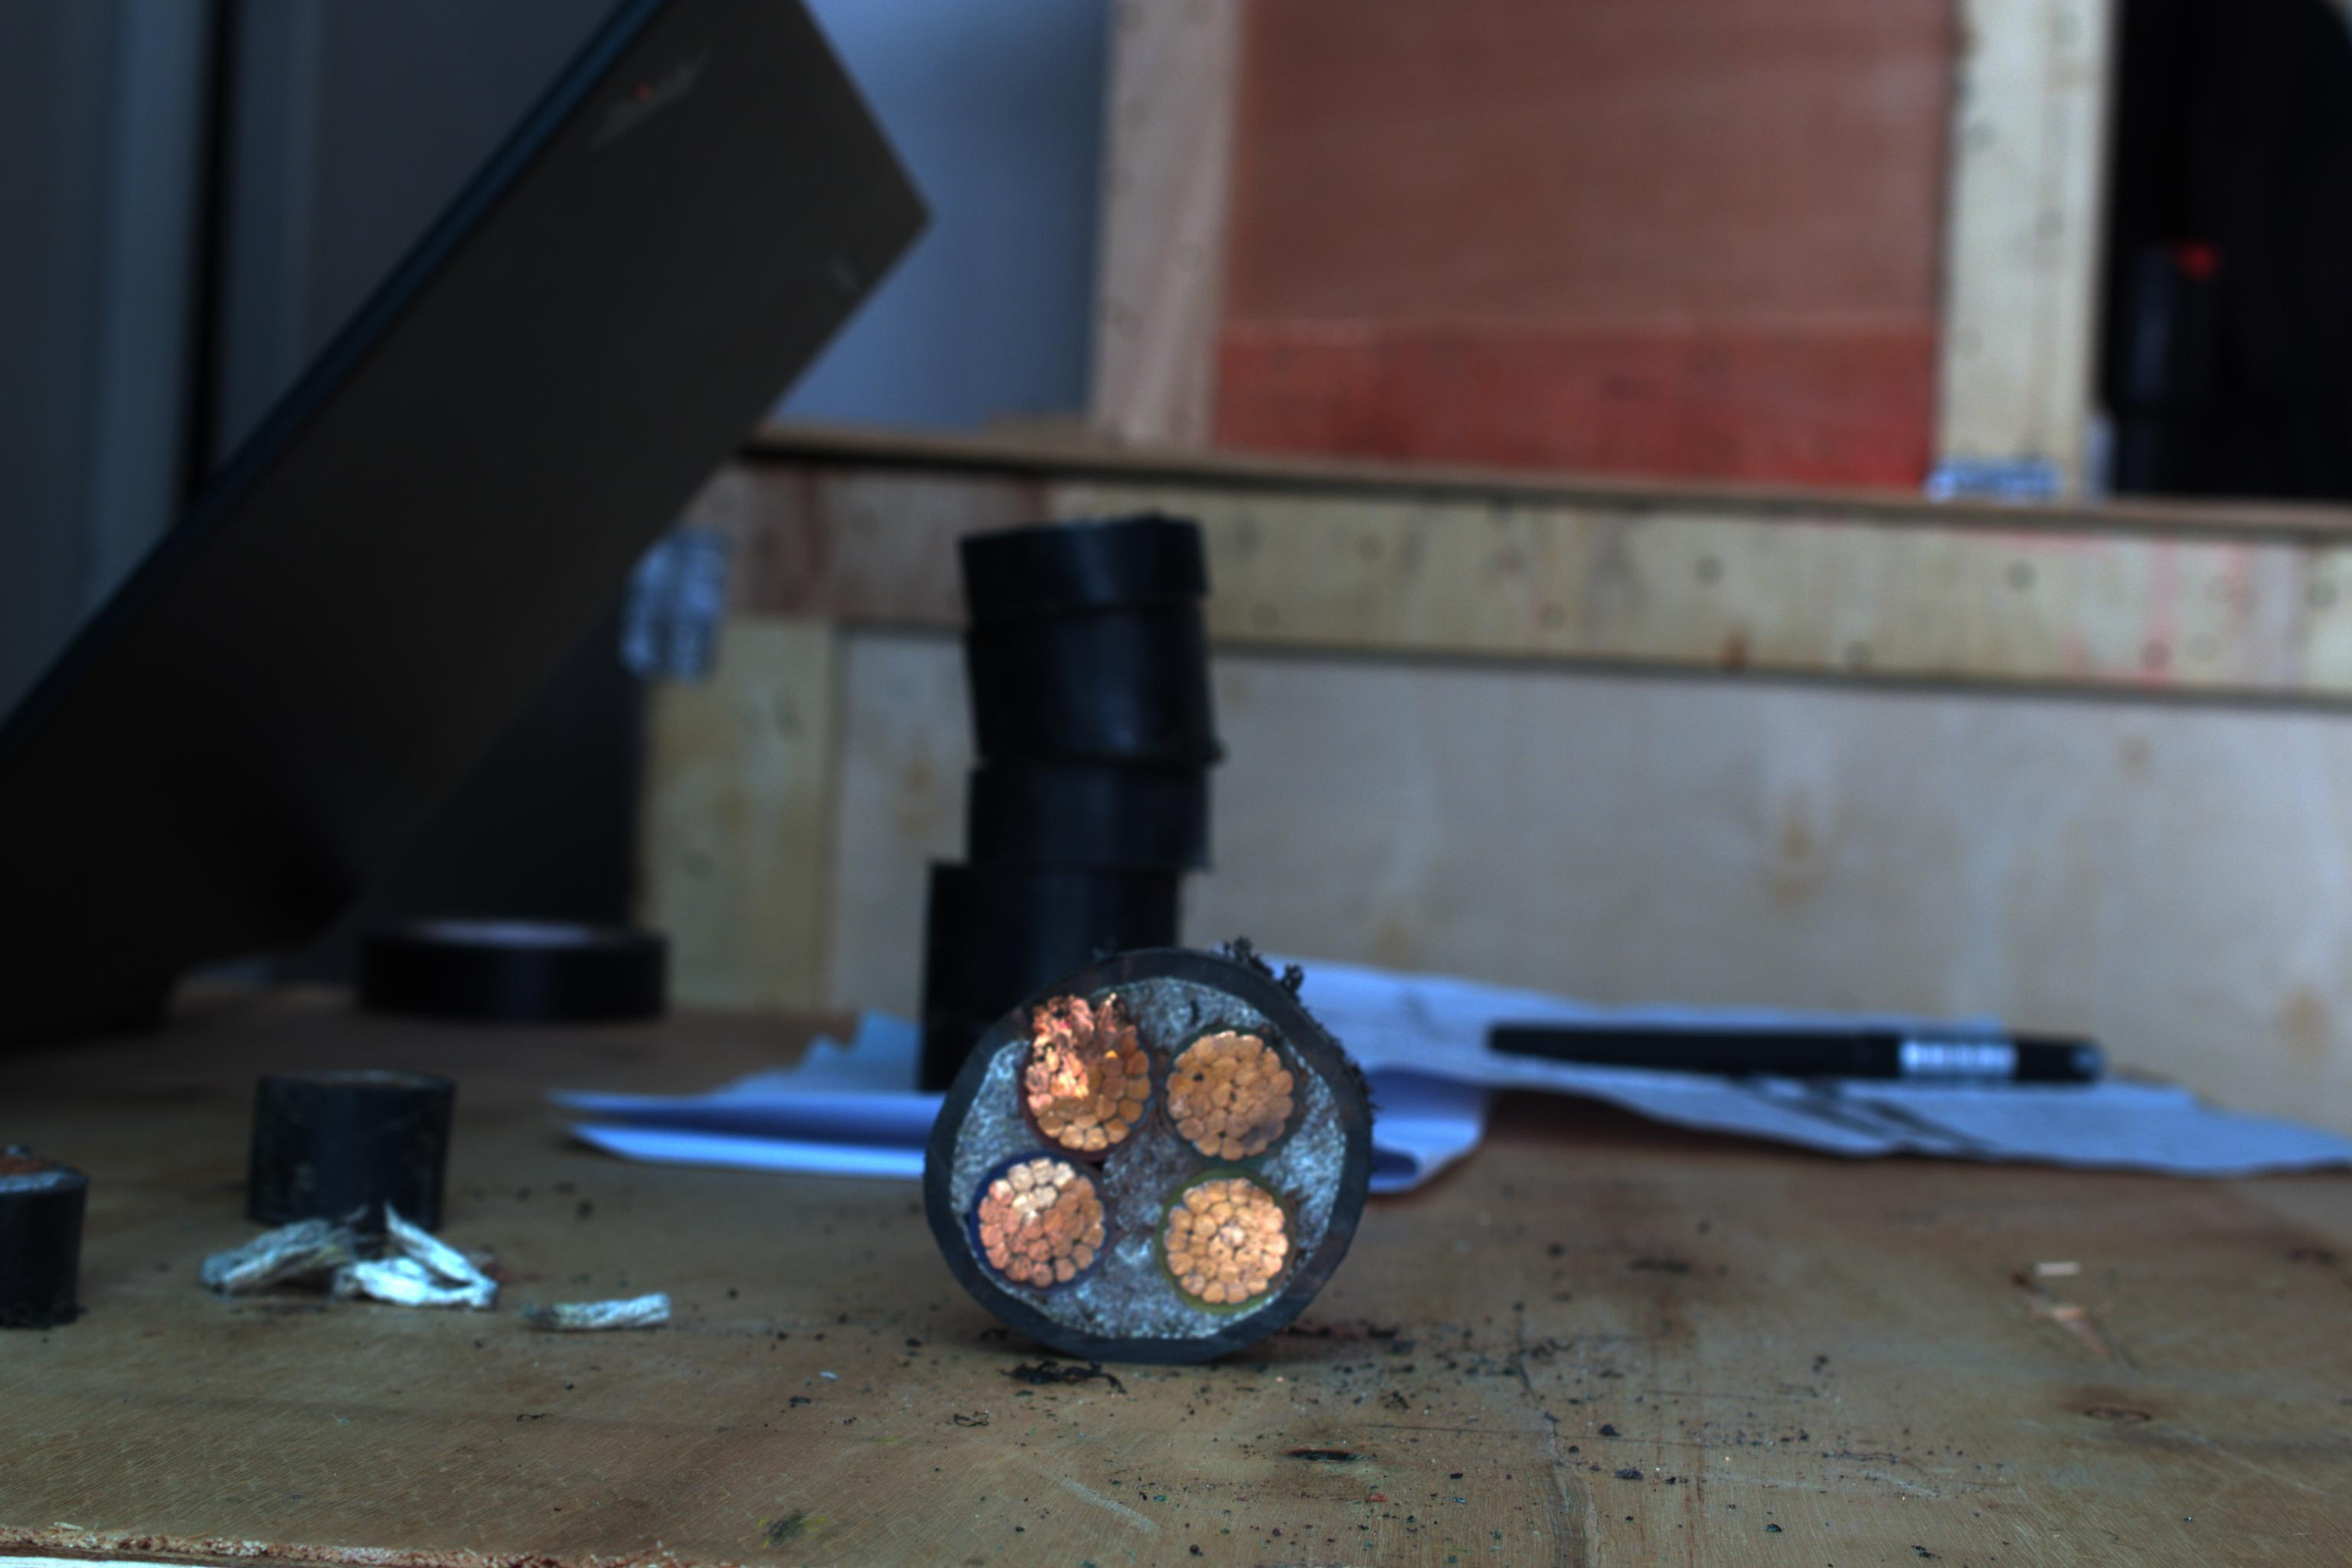YJV_0.6_1kV_4x120: (933, 952, 1381, 1361)
